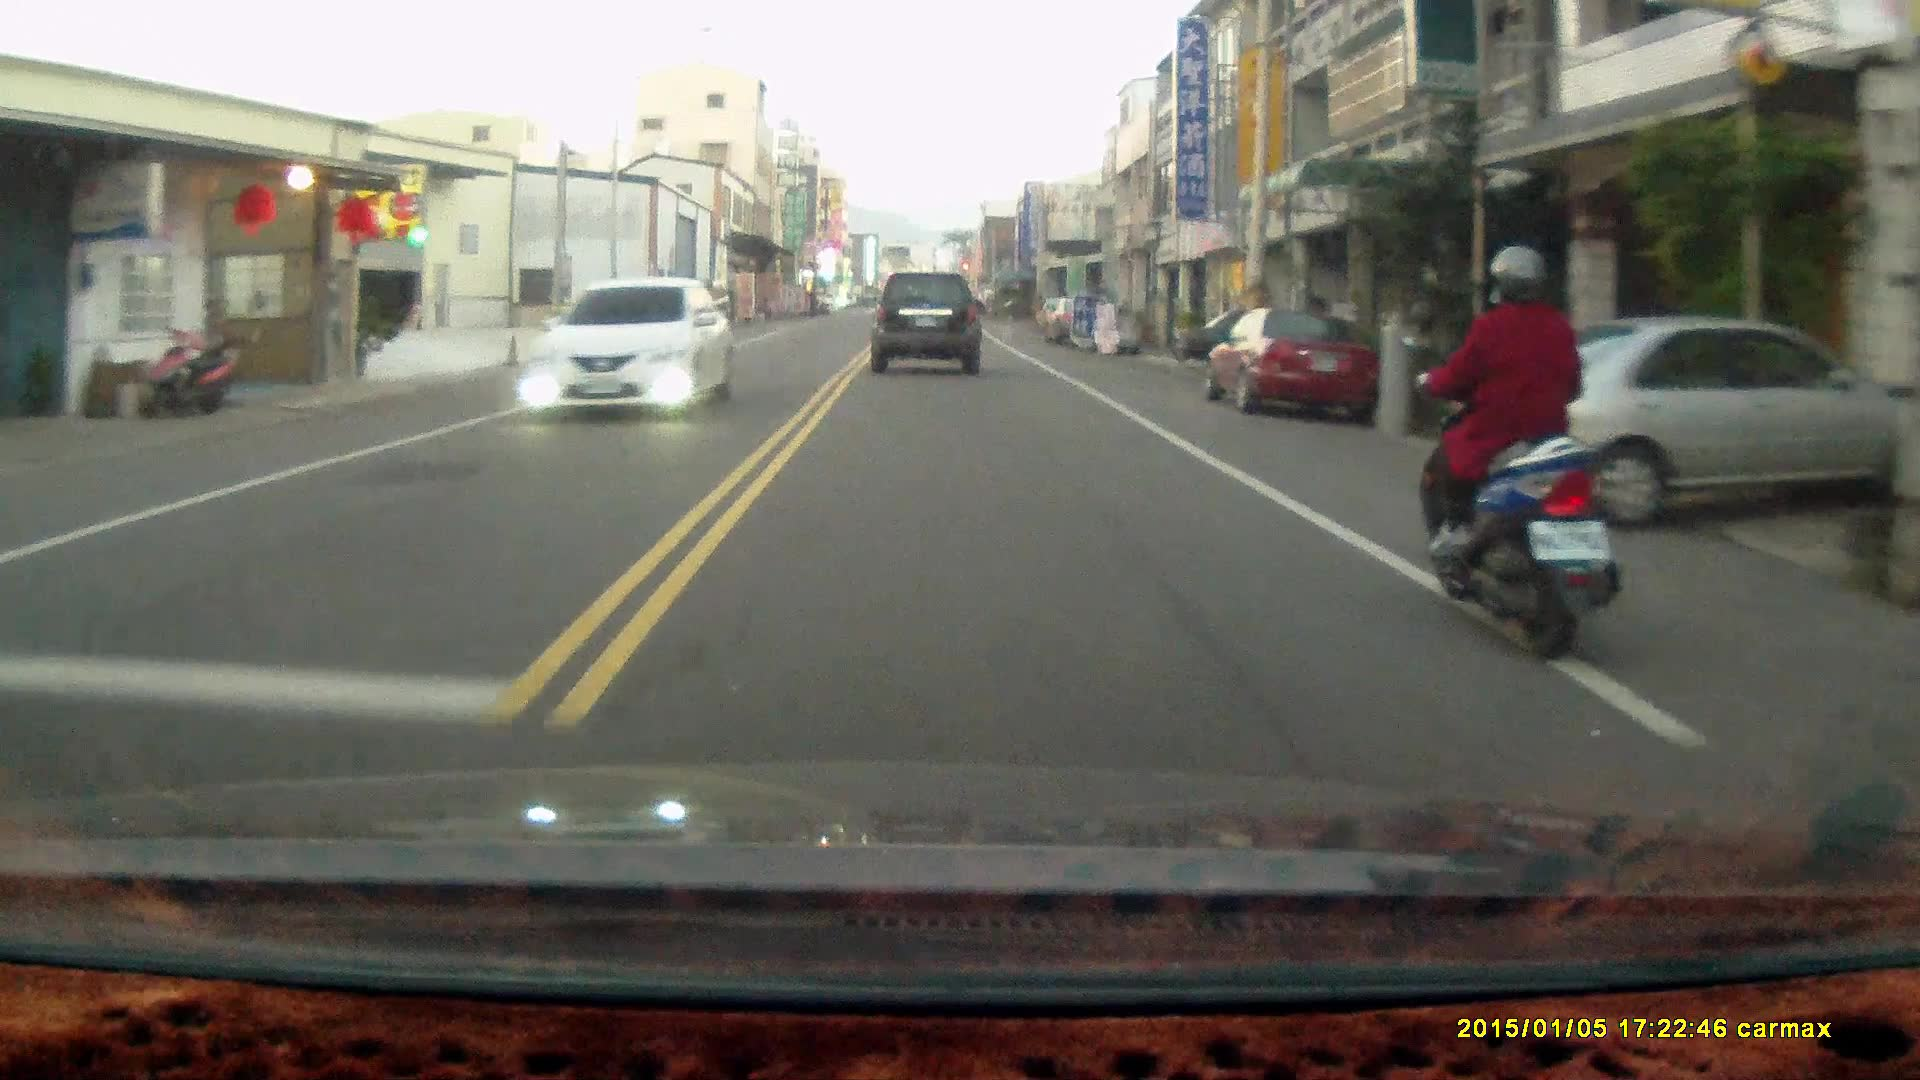rider: (1402, 241, 1622, 665)
vehicle: (1449, 318, 1907, 537), (527, 279, 737, 419), (1203, 305, 1381, 421), (871, 270, 984, 378), (657, 278, 733, 334)
